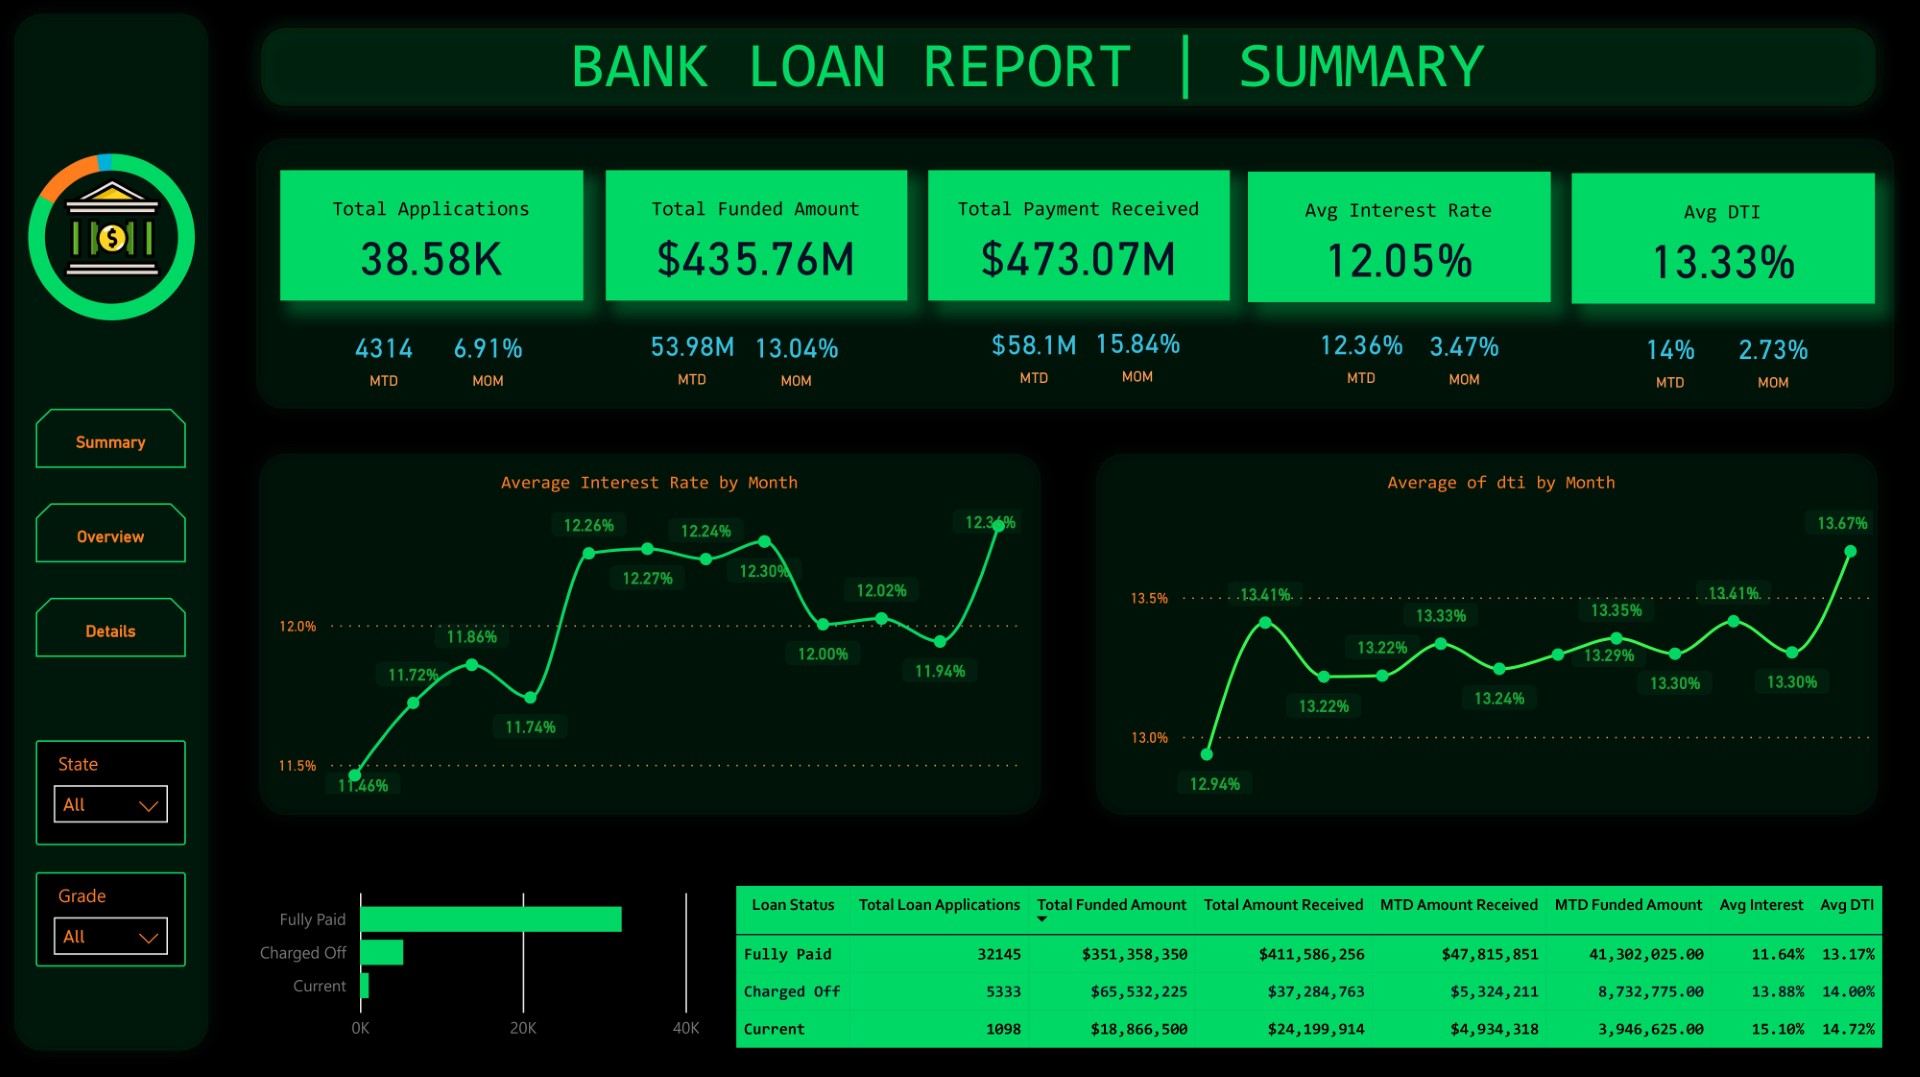

The dashboard page shown, as its layout file describes it:
{"tool":"powerbi","page":{"name":"Summary","canvas":[1280,720],"ordinal":0},"visuals":[{"type":"shape","title":"Menu Shadow","box":[0,0,148.8,710.5],"z":0,"group":"g9"},{"type":"shape","box":[162.8,8.1,1098.8,74.4],"z":0,"group":"g10"},{"type":"donutChart","title":"Loan Status","fields":{"Category":["financial_loan (2).loan_status"],"Y":["CountNonNull(financial_loan (2).id)"]},"box":[0,72.1,148.8,173.3],"z":0,"group":"g5"},{"type":"shape","title":"KPI Shadow","box":[161,83,1111.6,200],"z":0,"group":"g8"},{"type":"cardVisual","fields":{"Data":["Count(financial_loan (2).id)"]},"box":[187.2,114,202,86.9],"z":0,"group":"g2"},{"type":"group","id":"g1","title":"Shadow","box":[163.3,293,1098.7,260.6],"z":0,"group":"g6"},{"type":"shape","title":"KPI Shadow","box":[163.3,293,540.9,260.6],"z":0,"group":"g1"},{"type":"actionButton","box":[24.4,398.9,100,39.5],"z":0,"group":"g4"},{"type":"slicer","fields":{"Values":["finance.address_state"]},"box":[24.4,494.2,100,69.8],"z":0,"group":"g3"},{"type":"clusteredBarChart","title":"Chart Bar 1","fields":{"Category":["finance.loan_status"],"Y":["Count(finance.id)"]},"box":[162.8,582.6,308.1,119.8],"z":0,"group":"g7"},{"type":"textbox","box":[374.4,14,630.2,60],"z":1000,"group":"g10"},{"type":"image","box":[34.9,114,79.1,75.6],"z":1000,"group":"g5"},{"type":"group","id":"g2","title":"Group 1","box":[187.2,114,1062.8,150],"z":1000,"group":"g8"},{"type":"cardVisual","fields":{"Data":["Sum(financial_loan (2).loan_amount)"]},"box":[404.1,114,200.9,86.9],"z":1000,"group":"g2"},{"type":"actionButton","box":[24.4,273.3,100,39.5],"z":1000,"group":"g4"},{"type":"shape","title":"KPI Shadow","box":[721.1,293,540.9,260.6],"z":1000,"group":"g1"},{"type":"lineChart","fields":{"Category":["finance.issue_date.Variation.Date Hierarchy.Year","finance.issue_date.Variation.Date Hierarchy.Quarter","finance.issue_date.Variation.Date Hierarchy.Month","finance.issue_date.Variation.Date Hierarchy.Day"],"Y":["Avg(finance.int_rate)"]},"box":[180.2,314.6,506.4,219.9],"z":1000,"group":"g6"},{"type":"group","id":"g3","title":"Slicer","box":[24.4,494.2,100,151.2],"z":1000,"group":"g9"},{"type":"slicer","fields":{"Values":["finance.grade"]},"box":[24.4,582.6,100,62.8],"z":1000,"group":"g3"},{"type":"tableEx","fields":{"Values":["financial_loan (2).loan_status","CountNonNull(financial_loan (2).id)","Sum(financial_loan (2).loan_amount)","Sum(financial_loan (2).total_payment)","finance.MTD Amount Received","finance.MTD Funded Amount","Avg(financial_loan (2).int_rate)","Avg(financial_loan (2).dti)"]},"box":[484.9,586.1,776.7,118.6],"z":1000,"group":"g7"},{"type":"card","fields":{"Values":["finance.MTD Amount Received"]},"box":[654.8,211.9,69.1,48.6],"z":2000,"group":"g2"},{"type":"group","id":"g4","title":"Menu","box":[24.4,273.3,100,165.1],"z":2000,"group":"g9"},{"type":"lineChart","fields":{"Category":["finance.issue_date.Variation.Date Hierarchy.Year","finance.issue_date.Variation.Date Hierarchy.Quarter","finance.issue_date.Variation.Date Hierarchy.Month","finance.issue_date.Variation.Date Hierarchy.Day"],"Y":["Avg(finance.dti)"]},"box":[747.9,314.6,506.4,219.9],"z":2000,"group":"g6"},{"type":"actionButton","box":[24.4,336.1,100,39.5],"z":2000,"group":"g4"},{"type":"group","id":"g5","title":"Logo","box":[0,72.1,148.8,173.3],"z":3000,"group":"g9"},{"type":"card","fields":{"Values":["finance.Measure"]},"box":[427.1,213.4,68.9,48.6],"z":3000,"group":"g2"},{"type":"card","fields":{"Values":["finance.MTD Avg Intereset Rate"]},"box":[873.3,211.8,69.1,48.6],"z":4000,"group":"g2"},{"type":"card","fields":{"Values":["finance.MTD Loan Applications"]},"box":[220.9,214.3,70,48.6],"z":5000,"group":"g2"},{"type":"card","fields":{"Values":["finance.MTD Avg DTI"]},"box":[1079,215.4,69.1,48.6],"z":6000,"group":"g2"},{"type":"group","id":"g6","title":"Summary: Indicator 2","box":[163.3,293,1098.7,260.6],"z":6000},{"type":"card","fields":{"Values":["finance.MOM Loan Applications"]},"box":[291,214.3,68.9,48.6],"z":7000,"group":"g2"},{"type":"group","id":"g7","title":"Summary:  Indicator 1","box":[162.8,582.6,1098.8,122.1],"z":7000},{"type":"group","id":"g8","title":"KPI Panel","box":[161,83,1111.6,200],"z":8000},{"type":"card","fields":{"Values":["finance.MOM Avg DTI"]},"box":[1147.8,215.2,68.9,48.6],"z":8000,"group":"g2"},{"type":"group","id":"g9","title":"Side Bar","box":[0,0,148.8,710.5],"z":9000},{"type":"card","fields":{"Values":["finance.MOM Avg Interest Rate"]},"box":[942.6,212.7,68.9,48.6],"z":9000,"group":"g2"},{"type":"group","id":"g10","title":"Header","box":[162.8,8.1,1098.8,74.4],"z":10000},{"type":"card","fields":{"Values":["finance.MOM Amount Received"]},"box":[723.9,210.7,68.9,48.6],"z":10000,"group":"g2"},{"type":"card","fields":{"Values":["finance.MOM Funded Amount"]},"box":[495.9,214.5,70,48.6],"z":11000,"group":"g2"},{"type":"cardVisual","fields":{"Data":["Sum(finance.total_payment)"]},"box":[618.7,114,200.9,86.9],"z":12000,"group":"g2"},{"type":"cardVisual","fields":{"Data":["Avg(finance.int_rate)"]},"box":[832.2,115.1,202,86.9],"z":13000,"group":"g2"},{"type":"cardVisual","fields":{"Data":["Avg(finance.dti)"]},"box":[1048,116.3,202,86.9],"z":14000,"group":"g2"}]}

Visuals, with their boxes in screenshot pixels (x1, y1, x2, y2), scaled from the page's 1280x720 canvas onto the 1920x1077 screenshot:
"Menu Shadow" shape: (left=0, top=0, right=223, bottom=1063)
shape: (left=244, top=12, right=1892, bottom=123)
"Loan Status" donutChart: (left=0, top=108, right=223, bottom=367)
"KPI Shadow" shape: (left=242, top=124, right=1909, bottom=423)
cardVisual - Count(financial_loan (2).id): (left=281, top=171, right=584, bottom=301)
"Shadow" group: (left=245, top=438, right=1893, bottom=828)
"KPI Shadow" shape: (left=245, top=438, right=1056, bottom=828)
actionButton: (left=37, top=597, right=187, bottom=656)
slicer - finance.address_state: (left=37, top=739, right=187, bottom=844)
"Chart Bar 1" clusteredBarChart: (left=244, top=871, right=706, bottom=1051)
textbox: (left=562, top=21, right=1507, bottom=111)
image: (left=52, top=171, right=171, bottom=284)
"Group 1" group: (left=281, top=171, right=1875, bottom=395)
cardVisual - Sum(financial_loan (2).loan_amount): (left=606, top=171, right=908, bottom=301)
actionButton: (left=37, top=409, right=187, bottom=468)
"KPI Shadow" shape: (left=1082, top=438, right=1893, bottom=828)
lineChart - finance.issue_date.Variation.Date Hierarchy.Year x finance.issue_date.Variation.Date Hierarchy.Quarter: (left=270, top=471, right=1030, bottom=800)
"Slicer" group: (left=37, top=739, right=187, bottom=965)
slicer - finance.grade: (left=37, top=871, right=187, bottom=965)
tableEx - financial_loan (2).loan_status x CountNonNull(financial_loan (2).id): (left=727, top=877, right=1892, bottom=1054)
card - finance.MTD Amount Received: (left=982, top=317, right=1086, bottom=390)
"Menu" group: (left=37, top=409, right=187, bottom=656)
lineChart - finance.issue_date.Variation.Date Hierarchy.Year x finance.issue_date.Variation.Date Hierarchy.Quarter: (left=1122, top=471, right=1881, bottom=800)
actionButton: (left=37, top=503, right=187, bottom=562)
"Logo" group: (left=0, top=108, right=223, bottom=367)
card - finance.Measure: (left=641, top=319, right=744, bottom=392)
card - finance.MTD Avg Intereset Rate: (left=1310, top=317, right=1414, bottom=390)
card - finance.MTD Loan Applications: (left=331, top=321, right=436, bottom=393)
card - finance.MTD Avg DTI: (left=1618, top=322, right=1722, bottom=395)
"Summary: Indicator 2" group: (left=245, top=438, right=1893, bottom=828)
card - finance.MOM Loan Applications: (left=436, top=321, right=540, bottom=393)
"Summary:  Indicator 1" group: (left=244, top=871, right=1892, bottom=1054)
"KPI Panel" group: (left=242, top=124, right=1909, bottom=423)
card - finance.MOM Avg DTI: (left=1722, top=322, right=1825, bottom=395)
"Side Bar" group: (left=0, top=0, right=223, bottom=1063)
card - finance.MOM Avg Interest Rate: (left=1414, top=318, right=1517, bottom=391)
"Header" group: (left=244, top=12, right=1892, bottom=123)
card - finance.MOM Amount Received: (left=1086, top=315, right=1189, bottom=388)
card - finance.MOM Funded Amount: (left=744, top=321, right=849, bottom=394)
cardVisual - Sum(finance.total_payment): (left=928, top=171, right=1229, bottom=301)
cardVisual - Avg(finance.int_rate): (left=1248, top=172, right=1551, bottom=302)
cardVisual - Avg(finance.dti): (left=1572, top=174, right=1875, bottom=304)
